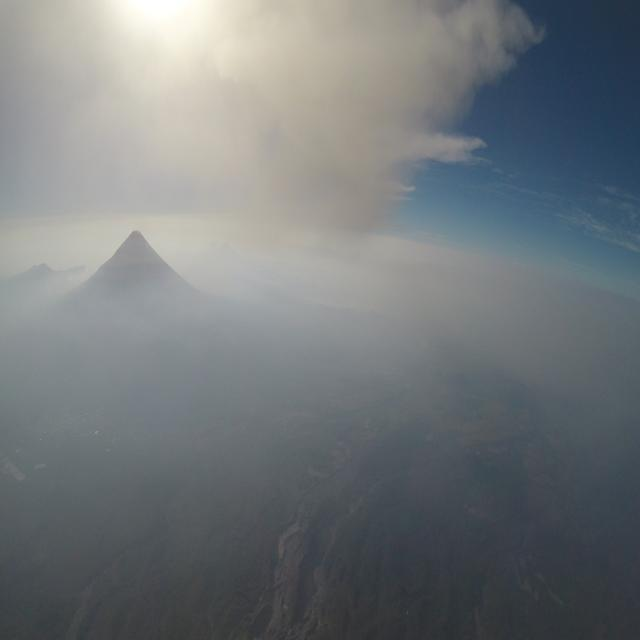Plume: (0, 1, 532, 240)
